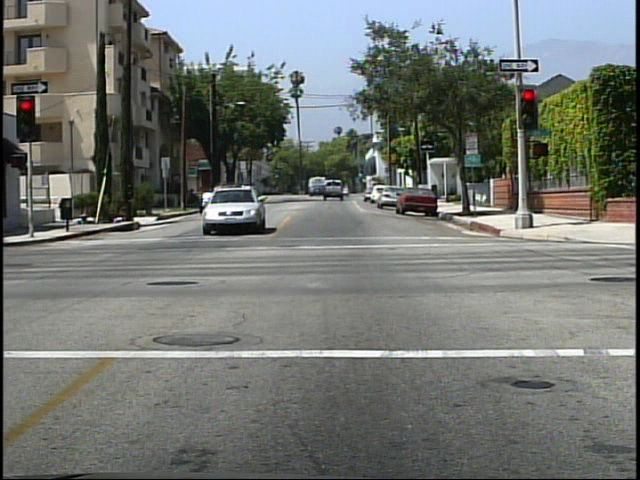car: (181, 188, 285, 232), (396, 186, 437, 218), (323, 178, 345, 202)
strada: (7, 246, 630, 470), (1, 331, 640, 477)
